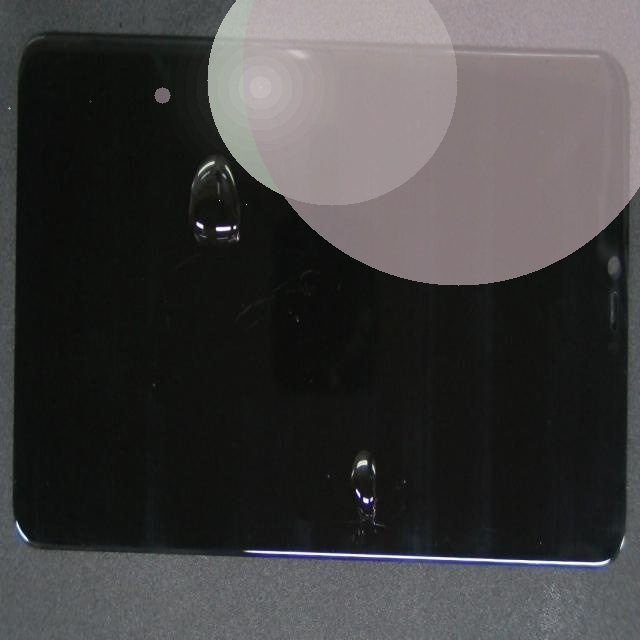oil: (172, 225, 528, 640), (96, 51, 281, 288)
